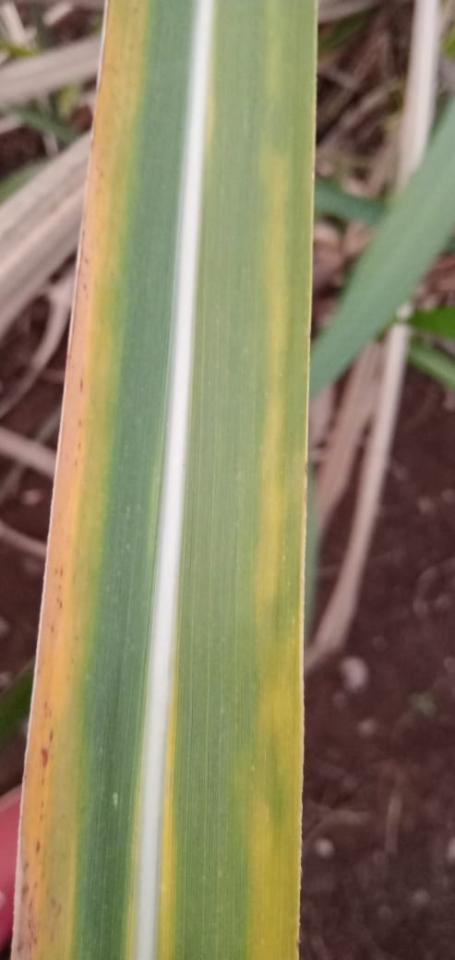Rust: (25, 918, 43, 954), (91, 163, 107, 202), (101, 58, 123, 82), (77, 243, 92, 277), (41, 697, 56, 723), (16, 883, 31, 907), (38, 744, 51, 771), (51, 902, 64, 921), (14, 934, 25, 956), (54, 588, 64, 612), (52, 562, 65, 579), (46, 726, 57, 746), (34, 834, 43, 858), (76, 376, 87, 395), (26, 894, 35, 917), (74, 413, 86, 430), (39, 772, 50, 790), (21, 860, 32, 877), (35, 868, 46, 885), (48, 924, 57, 944), (37, 799, 48, 811), (73, 453, 80, 471), (84, 286, 91, 301), (57, 579, 65, 592), (38, 811, 45, 825), (32, 880, 40, 892), (77, 440, 85, 452), (49, 623, 55, 636), (50, 898, 57, 909)
Yellow: (13, 1, 152, 960), (229, 140, 303, 959), (156, 674, 177, 959), (123, 766, 142, 959)
